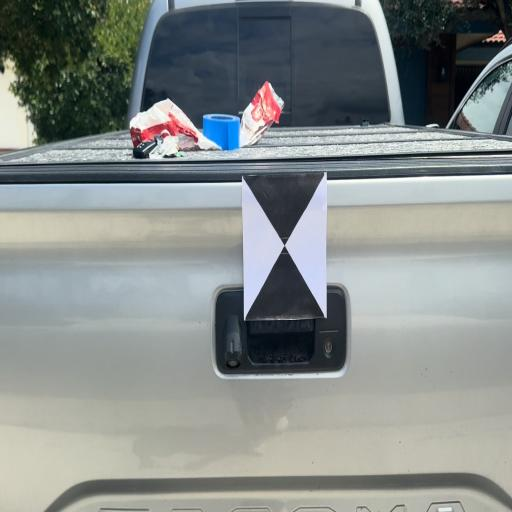target: (242, 174, 326, 317)
